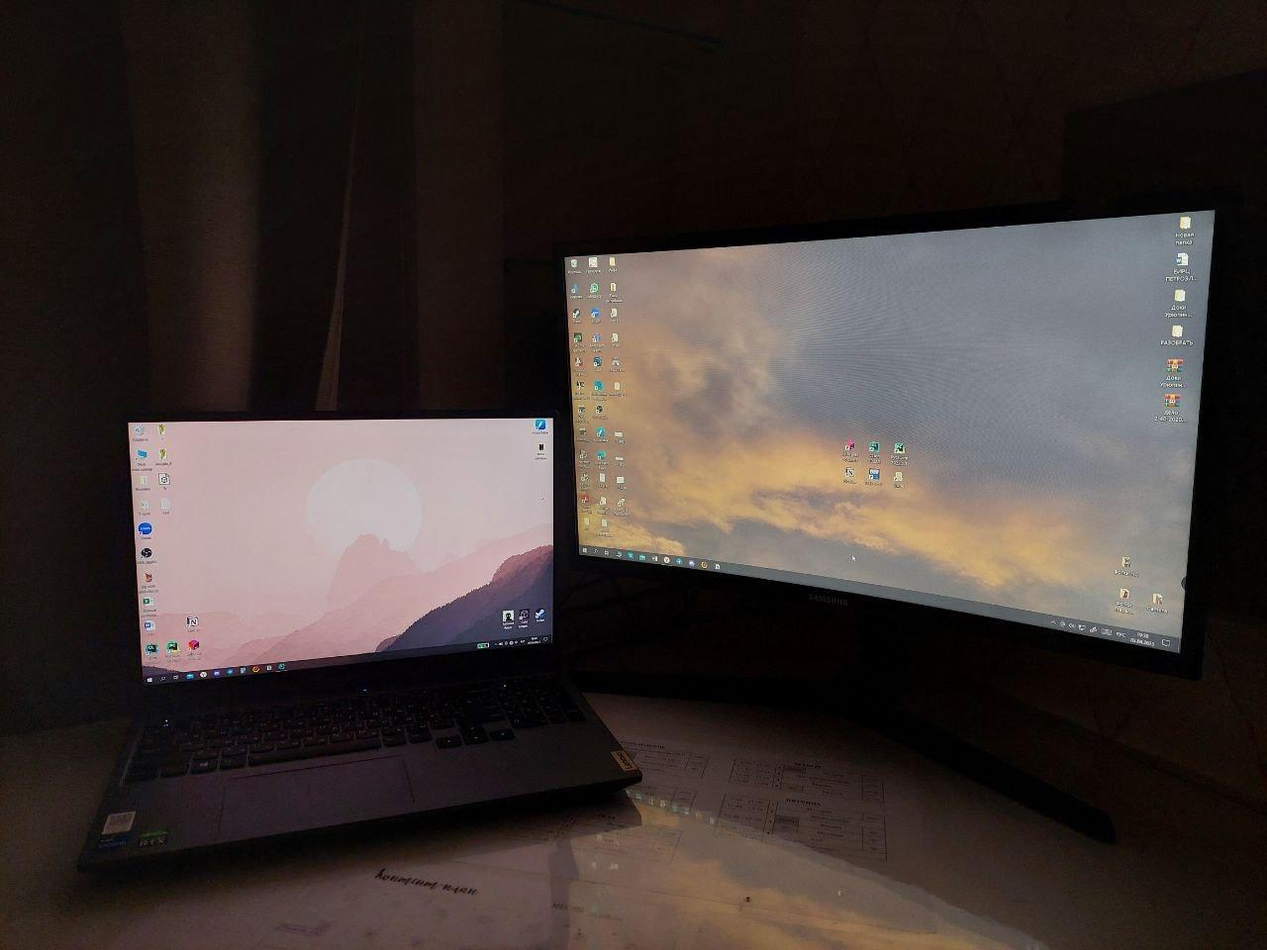monitor: (553, 185, 1245, 680), (110, 403, 569, 711)
